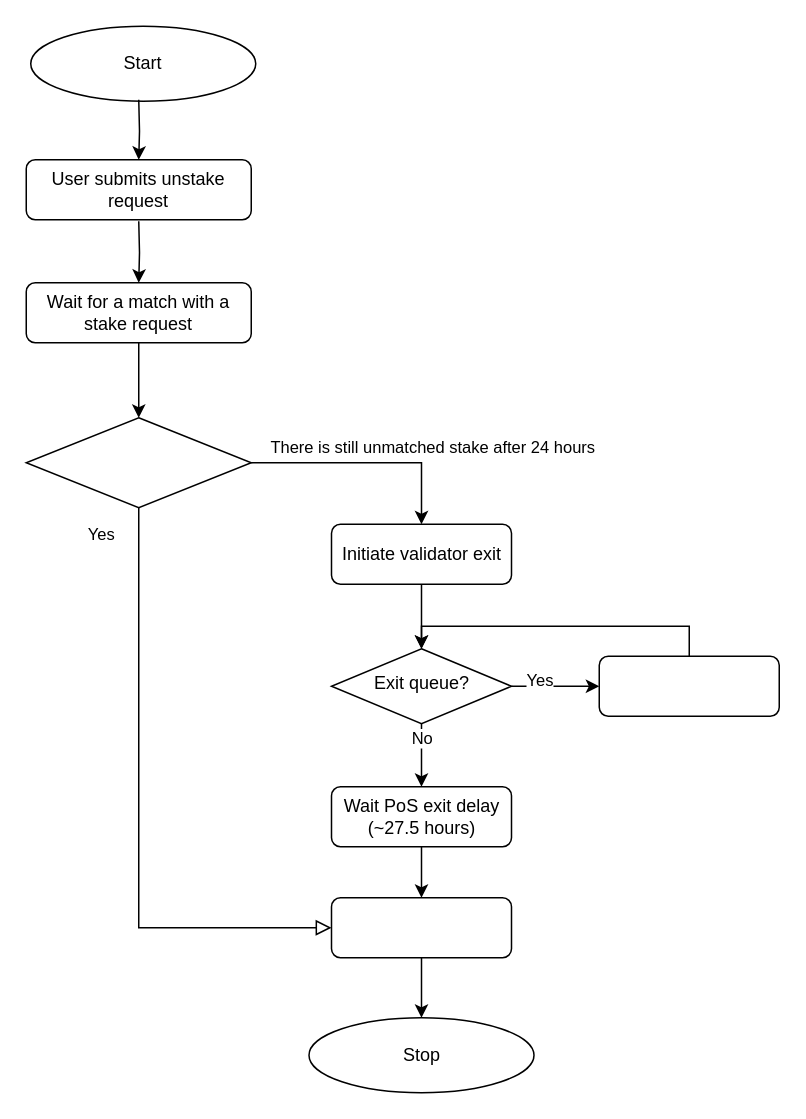
Image size: 806x1119. Some labels were removed from this diagram. Each missing label, with the centre of its shape:
"Match found?" belongs at (138,462).
"Signal amount is available to claim" belongs at (421,927).
"Wait in exit queue" belongs at (688,685).
